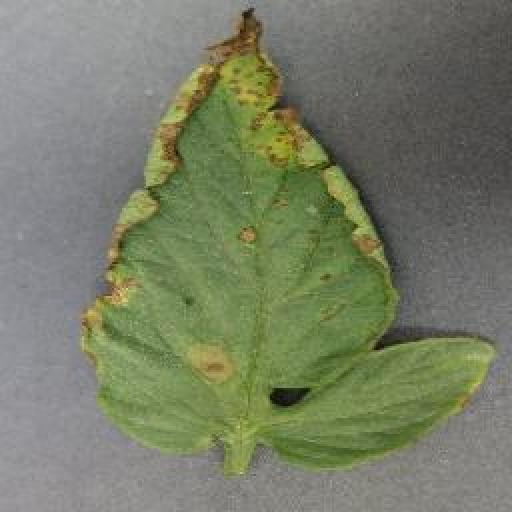Bacterial Spot: (73, 5, 496, 476)
